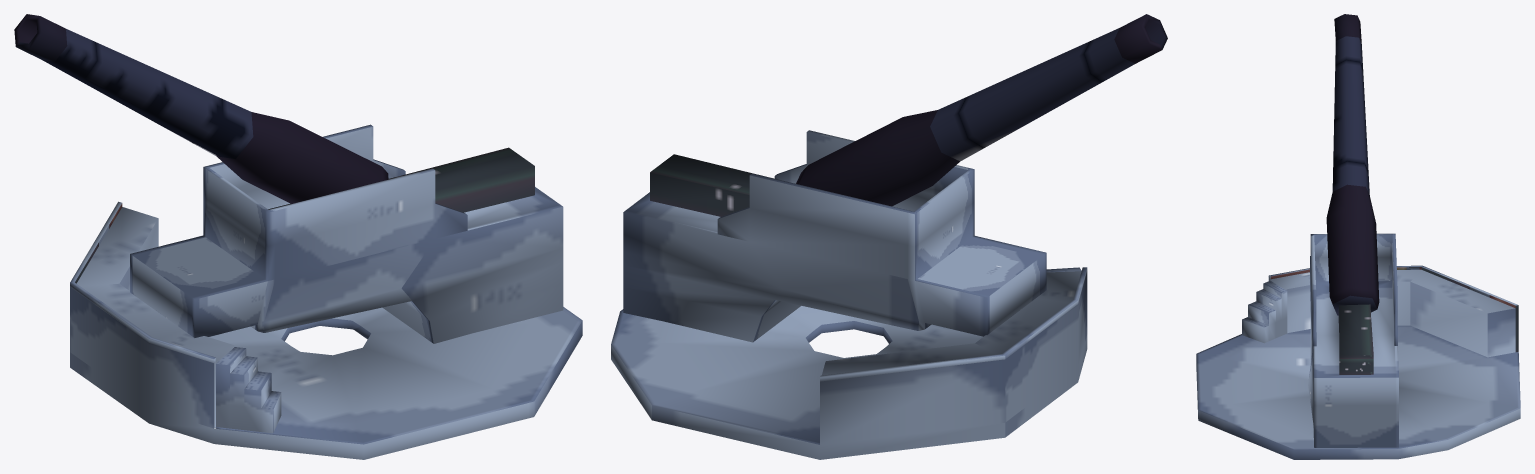
Rendered from Canhao.fbx.
3 views of the same model, side by side, from view 1: azimuth 30°, elevation 25°; view 2: azimuth 150°, elevation 25°; view 3: azimuth 270°, elevation 25° (orthographic). The views are drawn at different scales.
Parts seen in each view (by area): view 1: Canhao; view 2: Canhao; view 3: Canhao.
Boxes of the visible parts, x1,y1,x2,y2 form: Canhao: [14, 14, 582, 459]; Canhao: [611, 14, 1167, 459]; Canhao: [1196, 14, 1520, 459].
Size of the model in its own units: 1563 by 1241 by 1181.
